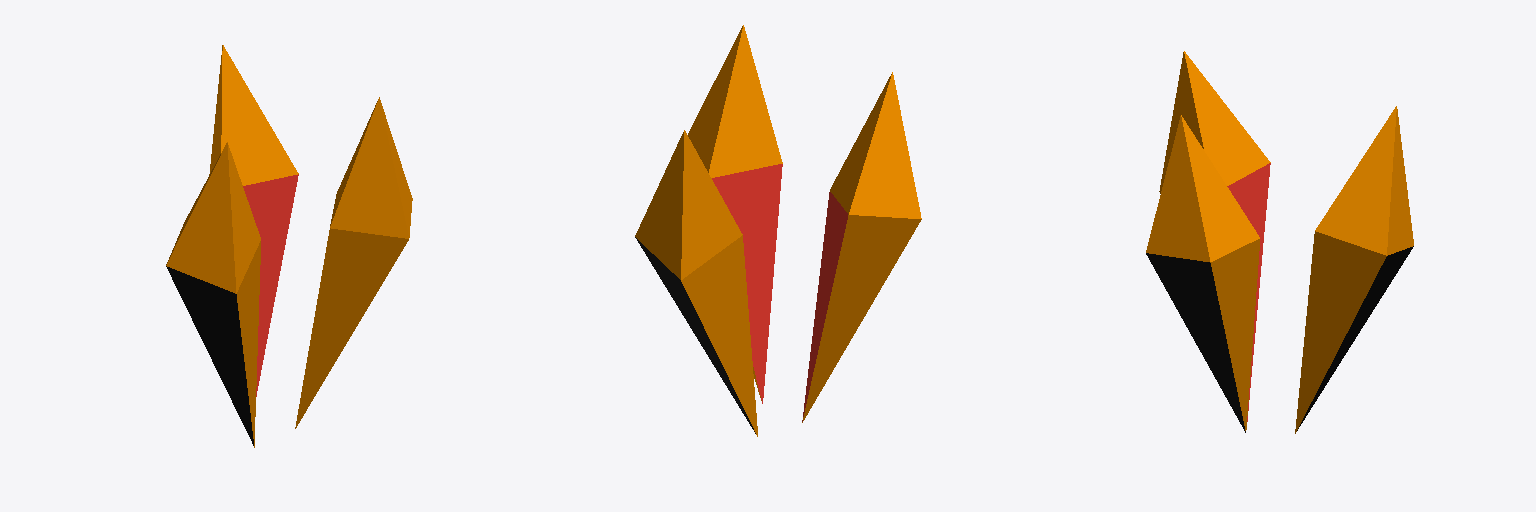
File: AngryBody.obj
3 views of the same model, side by side, from view 1: azimuth 30°, elevation 25°; view 2: azimuth 150°, elevation 25°; view 3: azimuth 270°, elevation 25° (orthographic).
Parts seen in each view (by area): view 1: group[number redacted], group[number redacted], group[number redacted]; view 2: group[number redacted], group[number redacted], group[number redacted]; view 3: group[number redacted], group[number redacted], group[number redacted].
Boxes of the visible parts, box(x1,y1,x2,y2) form: group[number redacted]: box(166, 142, 260, 447); group[number redacted]: box(295, 97, 412, 428); group[number redacted]: box(209, 45, 298, 396); group[number redacted]: box(802, 72, 921, 422); group[number redacted]: box(635, 130, 757, 436); group[number redacted]: box(688, 25, 782, 403); group[number redacted]: box(1146, 115, 1259, 432); group[number redacted]: box(1295, 106, 1413, 433); group[number redacted]: box(1159, 51, 1270, 421).
Bounding box in the file's own units: 0.6316 × 0.8786 × 0.6024.